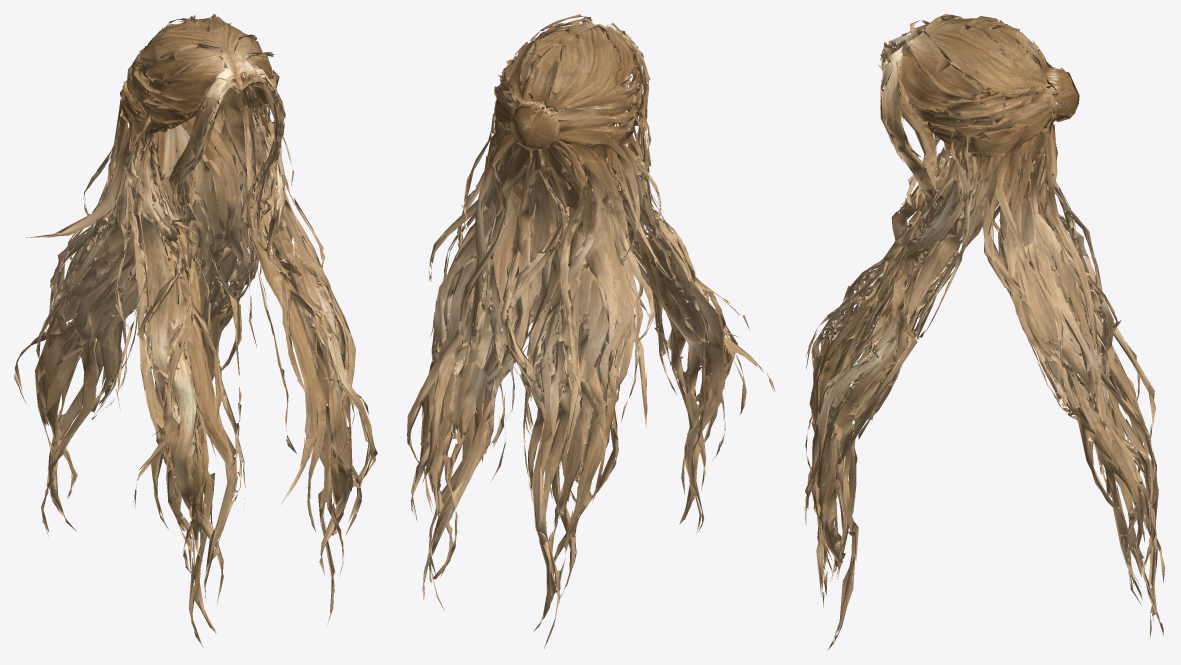
Rendered from hair_wavy.glb.
3 renders of one model, left to right at view 1: azimuth 30°, elevation 25°; view 2: azimuth 150°, elevation 25°; view 3: azimuth 270°, elevation 25°, orthographic. The views are drawn at different scales.
Parts seen in each view (by area): view 1: hair_wavy; view 2: hair_wavy; view 3: hair_wavy.
Part boxes in pixels (x1=…): hair_wavy: x1=14, y1=14, x2=377, y2=646; hair_wavy: x1=407, y1=14, x2=775, y2=648; hair_wavy: x1=804, y1=14, x2=1165, y2=649.
Bounding box in the file's own units: 0.9033 × 1.9 × 1.03.
1 material, 1 textured.
